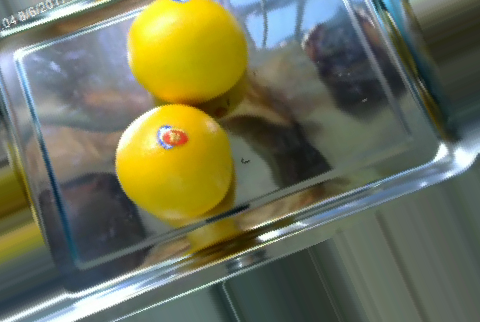Orange: (113, 103, 232, 220), (125, 0, 247, 105)
